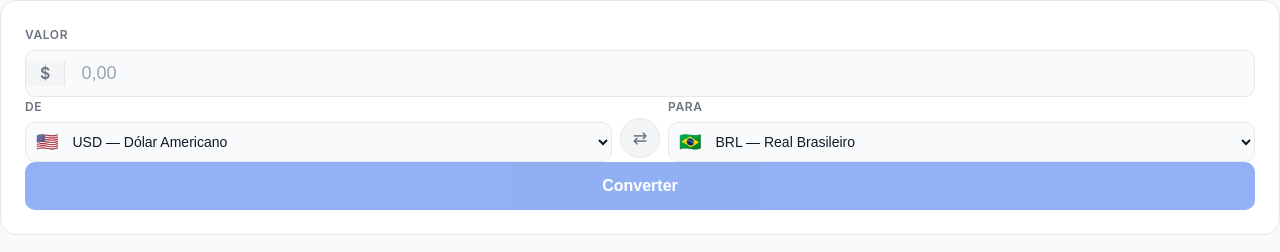
Test: Conversor › botão Converter › fica habilitado ao digitar um valor
Type "100" into the field with placeholder "0,00" at (660, 74), box [65,51,1254,96]
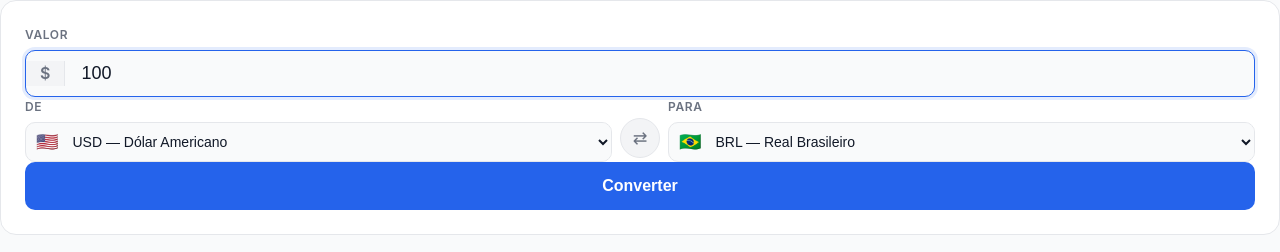
Result: the button "Converter" is enabled at [25,162,1255,210]
